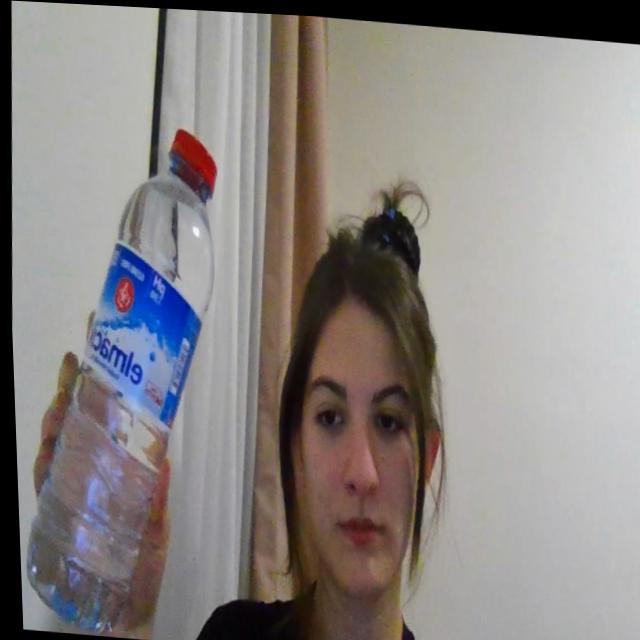anorganik: (3, 100, 246, 640)
